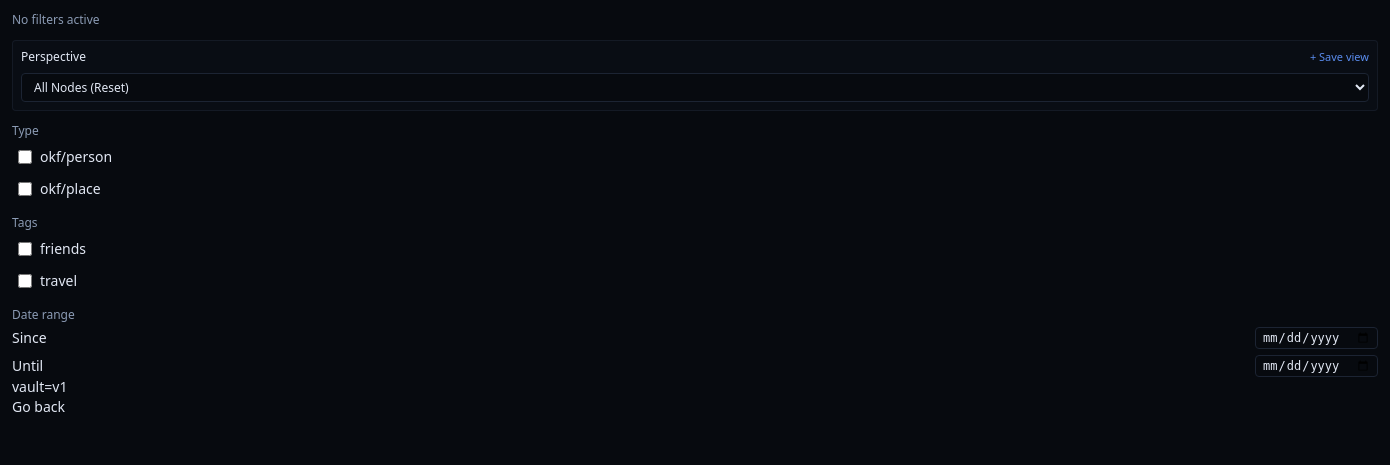
Test: GraphFilters › "Clear filters" removes every filter param and then disappears; the control is absent when nothing is set
Expected: the button "Clear filters" is not shown
Step 1. Click the checkbox labelled "okf/person" → (25, 157), box [18,150,32,164]
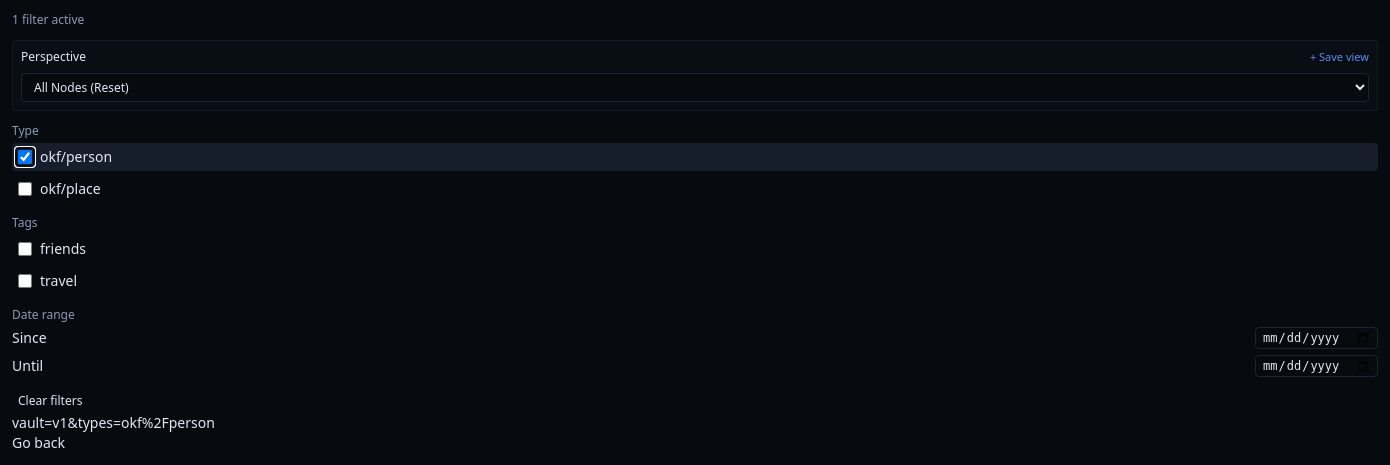
Step 2. Click the date field labelled "Since" → (1316, 338), box [1255,327,1378,349]
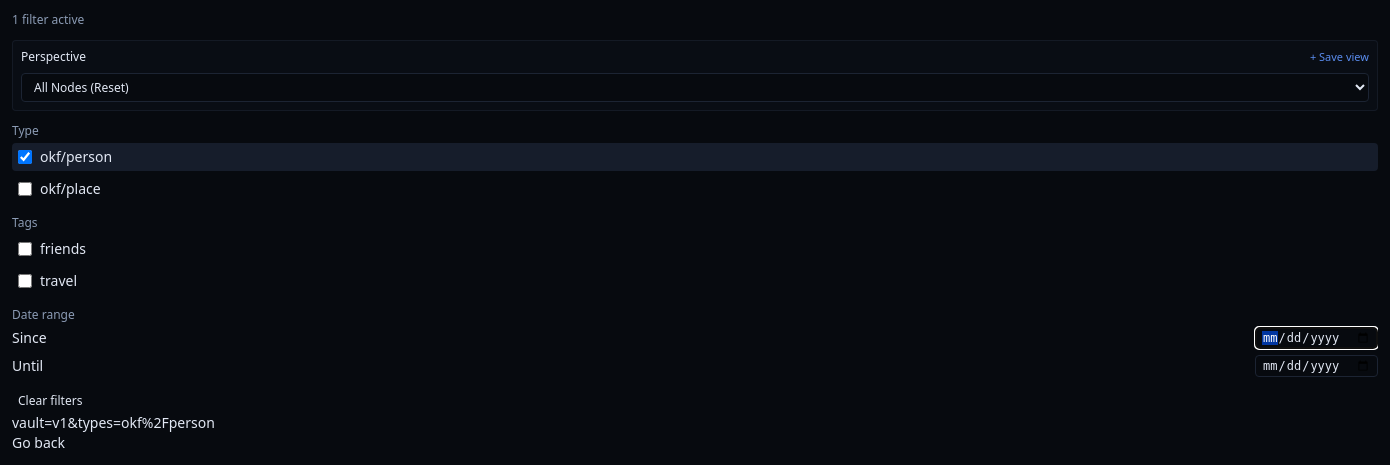
Step 3. Type keys "2026-01-01"
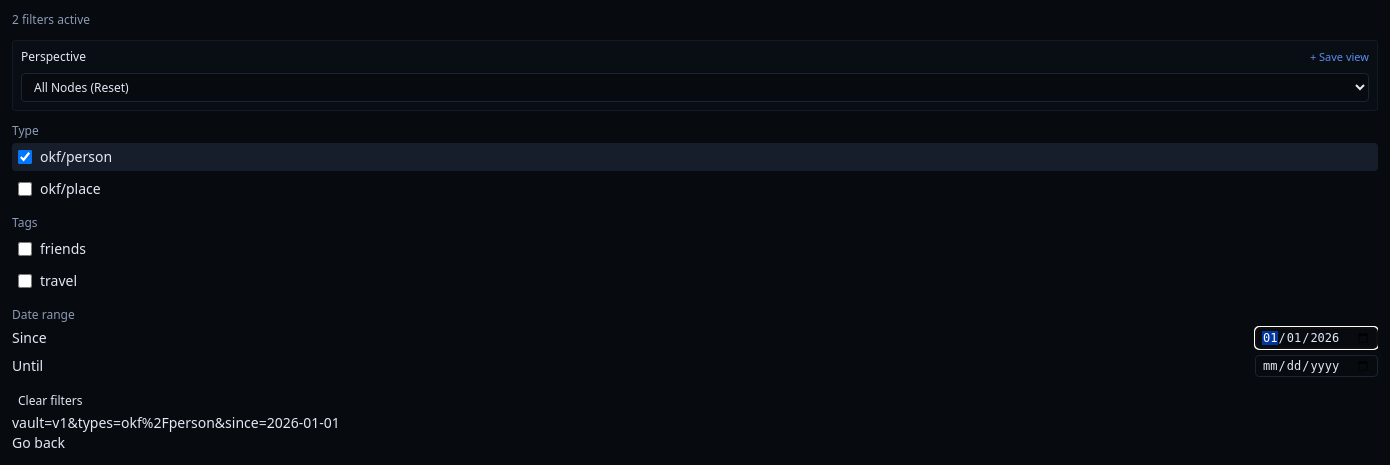
Expected: the button "Clear filters" is shown
Step 4. Click the button "Clear filters" → (50, 401), box [12,389,88,413]
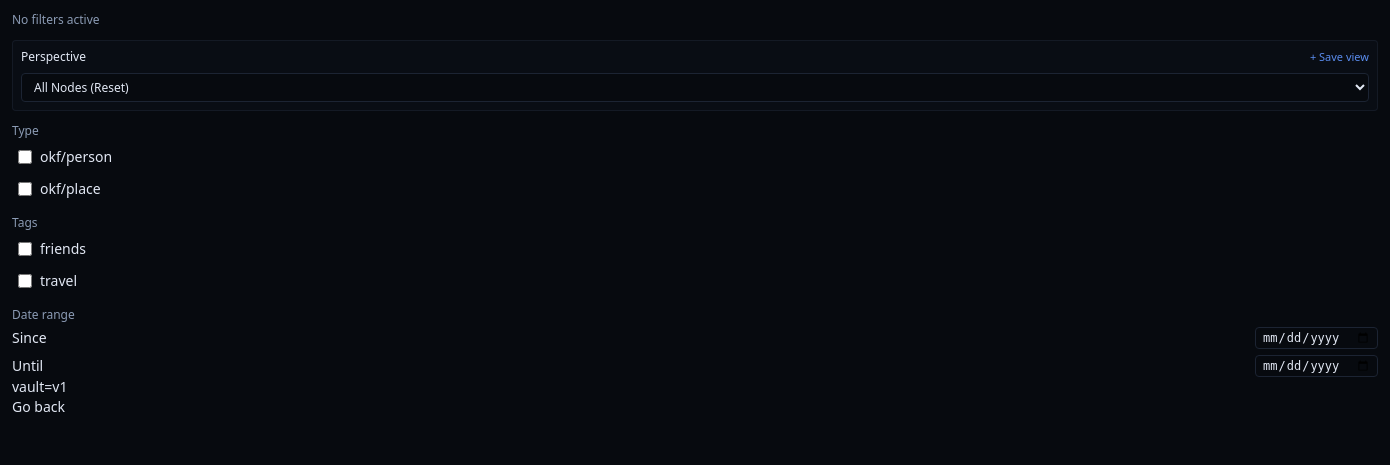
Expected: the text with test id "params" reads "vault=v1", [12,377,67,396]
Expected: the button "Clear filters" is gone
